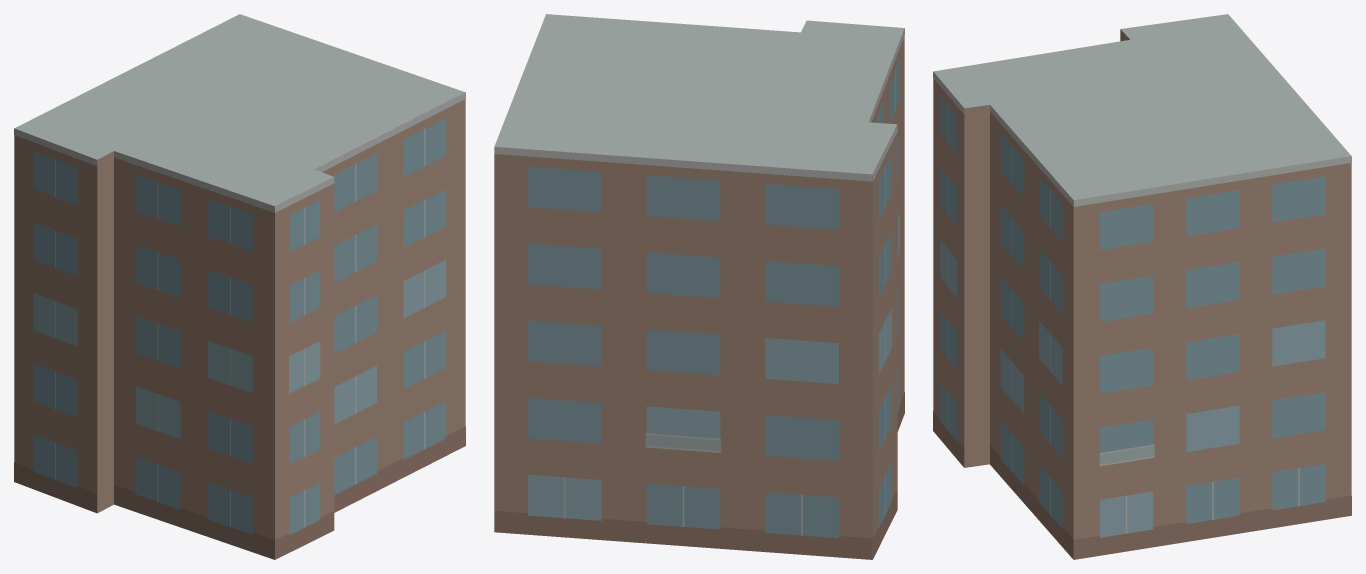
The model's file is survey-upis-33017840.glb.
3 views of the same model, side by side, from view 1: azimuth 30°, elevation 25°; view 2: azimuth 150°, elevation 25°; view 3: azimuth 270°, elevation 25° (orthographic). The views are drawn at different scales.
Visible parts, largest first — view 1: survey-upis-33017840.tmp; view 2: survey-upis-33017840.tmp; view 3: survey-upis-33017840.tmp.
Part boxes in pixels (bbox=[...]): survey-upis-33017840.tmp: bbox=[14, 14, 465, 559]; survey-upis-33017840.tmp: bbox=[494, 14, 904, 559]; survey-upis-33017840.tmp: bbox=[933, 14, 1351, 559].
Size of the model in its own units: 14.69 by 13.2 by 13.94.
